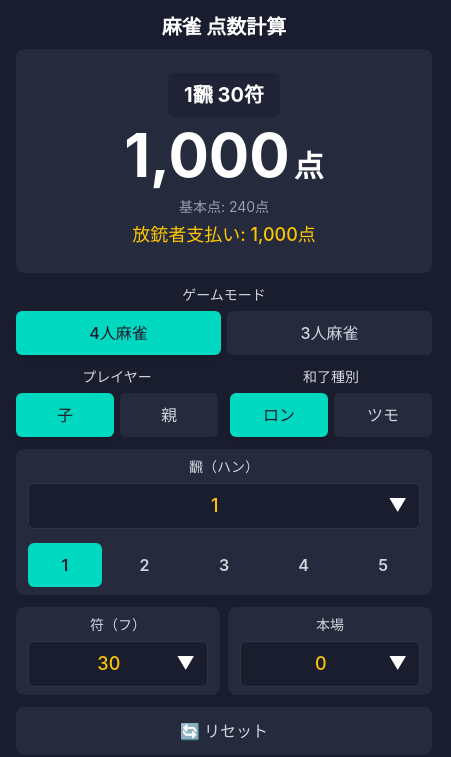
Test case: 複雑な点数計算フロー: 親ツモ
Click the button "親".
click(169, 415)  # box x1=120 y1=393 x2=218 y2=437
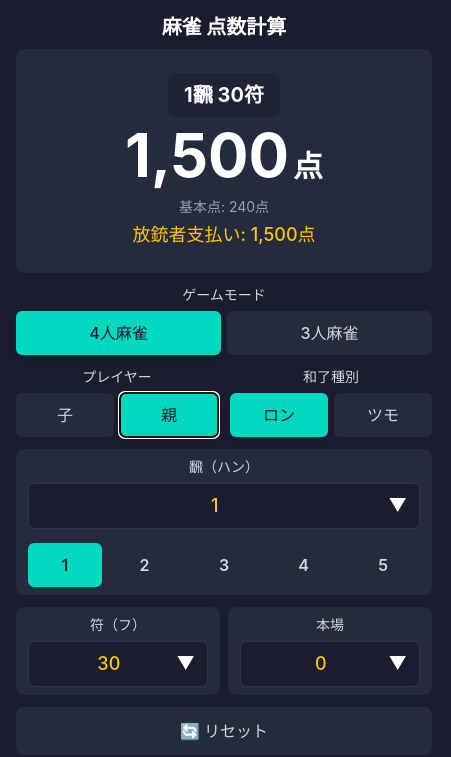
Click the button "ツモ".
click(383, 415)  # box x1=334 y1=393 x2=432 y2=437
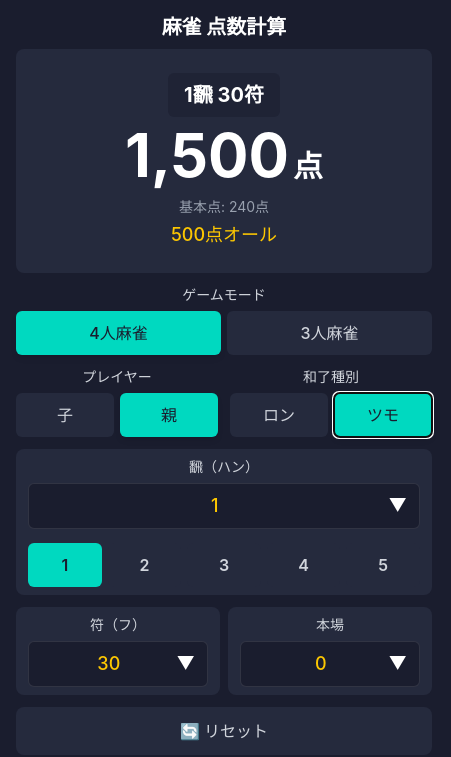
Click the button "2".
click(144, 565)  # box x1=108 y1=543 x2=181 y2=587
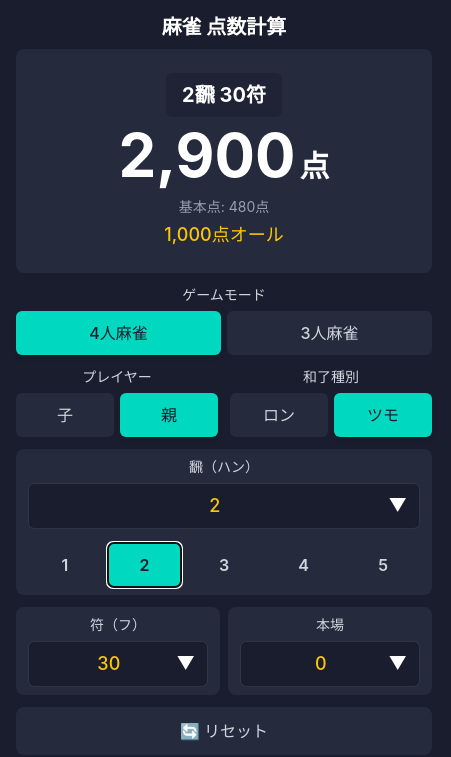
Check: the text "1,000点オール" is shown, box x1=164 y1=224 x2=284 y2=245
